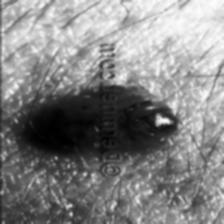Potentially Malignant Skin Tumors: (20, 86, 90, 156), (120, 85, 172, 157)
